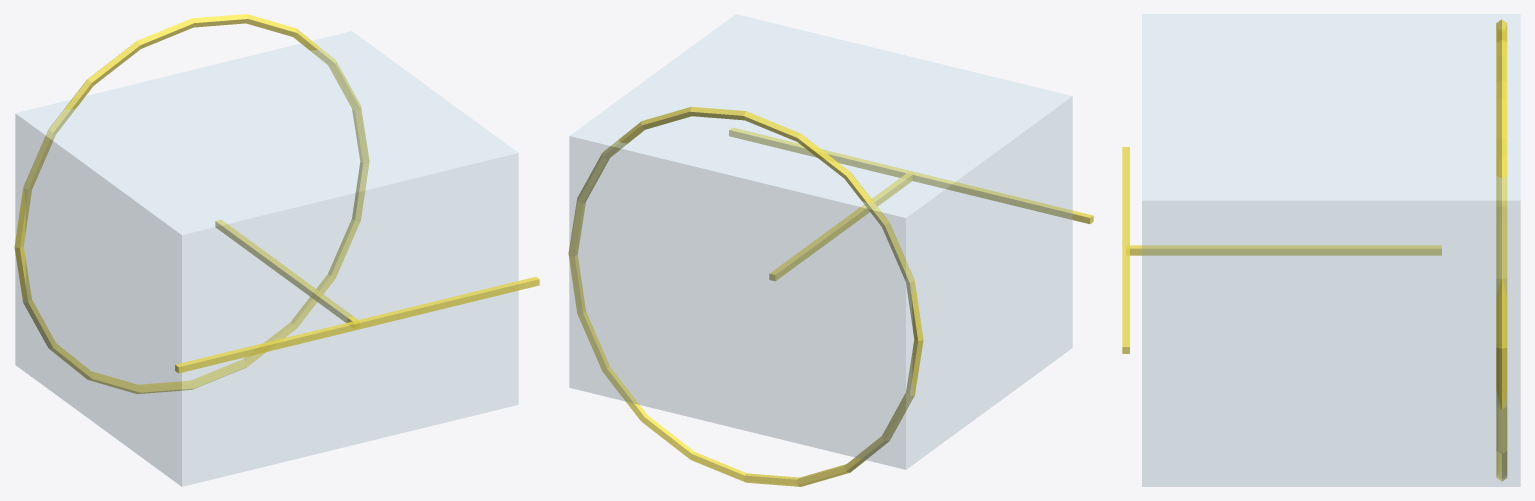
Rendered from 04_cylinder_collider_helper.glb.
3 views of the same model, side by side, from view 1: azimuth 30°, elevation 25°; view 2: azimuth 150°, elevation 25°; view 3: azimuth 270°, elevation 25° (orthographic). The views are drawn at different scales.
Visible parts, largest first — view 1: transparent_volume, helper_ring, axis_x, axis_z; view 2: transparent_volume, helper_ring, axis_x, axis_z; view 3: transparent_volume, helper_ring, axis_z, axis_x.
Boxes of the visible parts, x1,y1,x2,y2 form: transparent_volume: [15, 31, 518, 486]; helper_ring: [14, 14, 369, 393]; axis_x: [175, 276, 539, 373]; axis_z: [215, 219, 359, 322]; transparent_volume: [569, 14, 1072, 469]; helper_ring: [568, 106, 923, 486]; axis_x: [729, 127, 1093, 224]; axis_z: [769, 172, 913, 281]; transparent_volume: [1142, 14, 1520, 486]; helper_ring: [1496, 19, 1507, 481]; axis_z: [1126, 245, 1441, 255]; axis_x: [1122, 147, 1129, 353].
Bounding box in the file's own units: 1.5 × 1.48 × 1.26.
